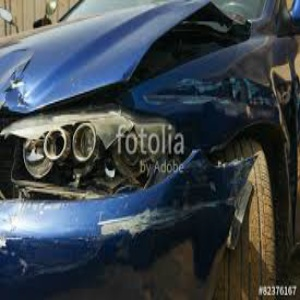bumper: (100, 156, 261, 297)
